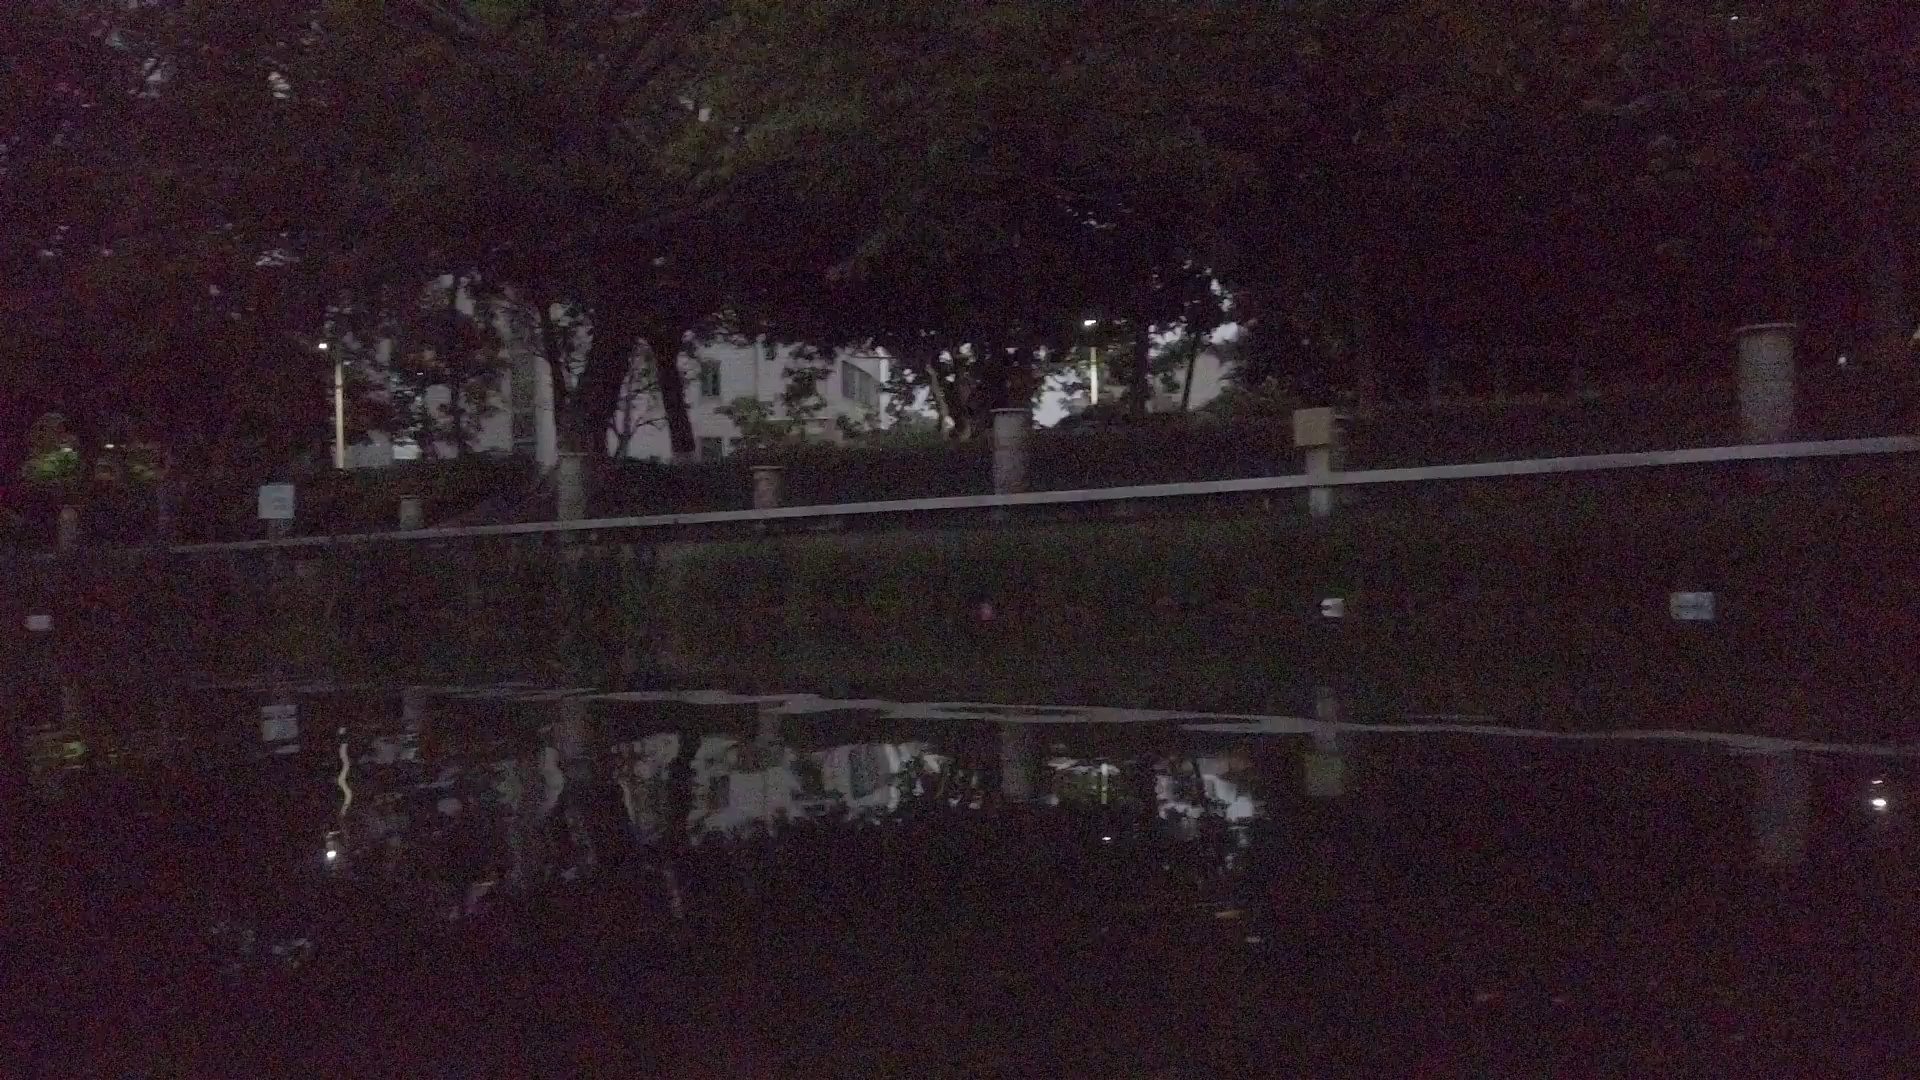bottle: (976, 599, 1005, 626)
carton: (1668, 589, 1713, 612), (24, 615, 54, 636), (1323, 597, 1342, 612)
